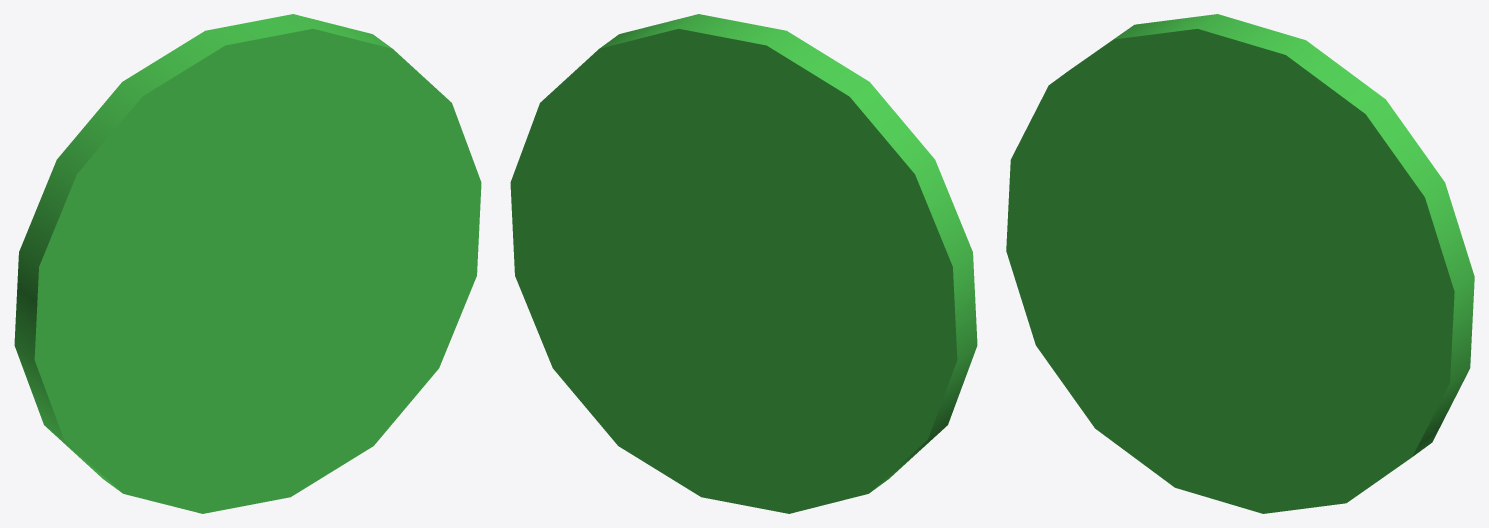
Rendered from Lever_Special_01_Lever.fbx.
3 renders of one model, left to right at view 1: azimuth 30°, elevation 25°; view 2: azimuth 150°, elevation 25°; view 3: azimuth 330°, elevation 25°, orthographic.
Visible parts, largest first — view 1: Lever_Special_01_Lever; view 2: Lever_Special_01_Lever; view 3: Lever_Special_01_Lever.
Boxes of the visible parts, box(x1,y1,x2,y2) form: Lever_Special_01_Lever: box(14, 14, 481, 513); Lever_Special_01_Lever: box(510, 14, 977, 513); Lever_Special_01_Lever: box(1006, 14, 1474, 513).
Bounding box in the file's own units: 9.34 × 9.34 × 0.7283.
